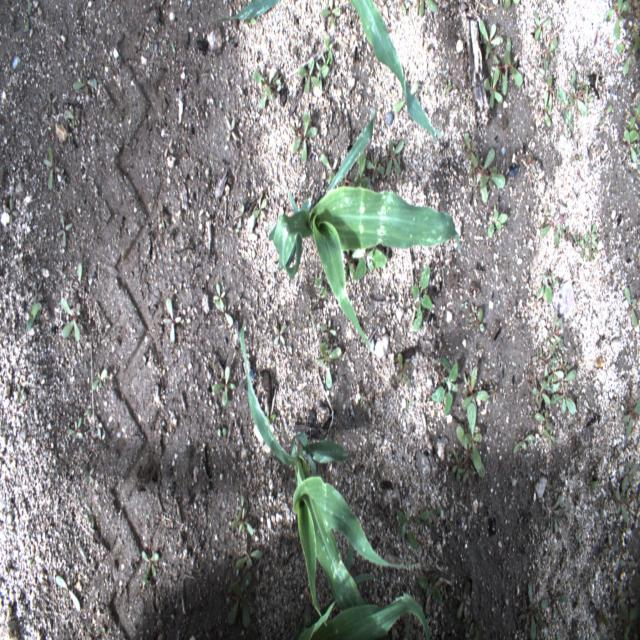crop: (240, 321, 430, 638), (268, 96, 461, 348), (350, 0, 442, 138), (218, 3, 277, 23)
weed: (453, 402, 489, 487), (466, 133, 508, 203), (430, 354, 465, 419), (316, 318, 346, 390), (350, 229, 391, 280), (288, 109, 320, 172), (408, 270, 435, 344), (560, 73, 592, 129), (494, 35, 524, 94), (250, 67, 285, 117), (613, 459, 637, 527), (228, 575, 257, 631), (296, 56, 332, 98), (227, 494, 259, 540), (462, 364, 489, 418), (390, 505, 419, 553), (521, 577, 545, 635), (541, 309, 569, 358), (211, 364, 240, 409), (59, 568, 85, 616), (417, 499, 444, 545), (58, 296, 82, 347), (137, 546, 162, 594), (210, 285, 235, 330), (160, 295, 182, 346), (605, 0, 630, 43), (53, 209, 75, 257), (237, 546, 266, 581), (418, 570, 446, 606), (70, 66, 100, 98), (546, 494, 567, 538), (542, 587, 566, 623), (486, 206, 513, 238), (576, 228, 603, 260), (272, 319, 294, 358), (513, 430, 538, 464), (482, 71, 503, 111), (479, 18, 505, 50), (625, 105, 640, 160), (468, 300, 490, 336), (539, 218, 562, 252), (357, 148, 382, 179), (388, 136, 406, 178), (395, 348, 412, 392), (221, 112, 239, 152), (620, 396, 637, 438), (617, 602, 637, 637), (619, 39, 639, 74), (253, 185, 270, 226), (552, 385, 576, 414), (40, 85, 61, 118), (82, 505, 100, 543), (532, 14, 554, 45), (43, 149, 59, 191), (67, 413, 86, 448), (456, 589, 474, 625), (89, 402, 104, 445), (623, 286, 638, 329), (89, 360, 109, 390), (538, 274, 558, 304), (532, 380, 551, 411), (320, 36, 337, 70), (13, 376, 31, 408), (411, 2, 440, 21), (616, 549, 636, 576), (434, 74, 454, 100), (596, 103, 610, 139), (26, 300, 41, 333), (5, 195, 18, 233), (233, 202, 246, 238), (600, 537, 618, 562), (543, 40, 557, 72), (552, 370, 576, 388), (322, 158, 341, 178), (24, 4, 35, 34), (542, 92, 552, 125), (323, 8, 342, 24), (535, 408, 550, 428), (547, 364, 562, 381), (460, 462, 473, 481), (534, 58, 546, 78), (598, 496, 608, 518), (547, 76, 553, 112), (452, 453, 460, 478), (545, 431, 556, 445), (33, 280, 42, 297), (504, 1, 518, 9)
